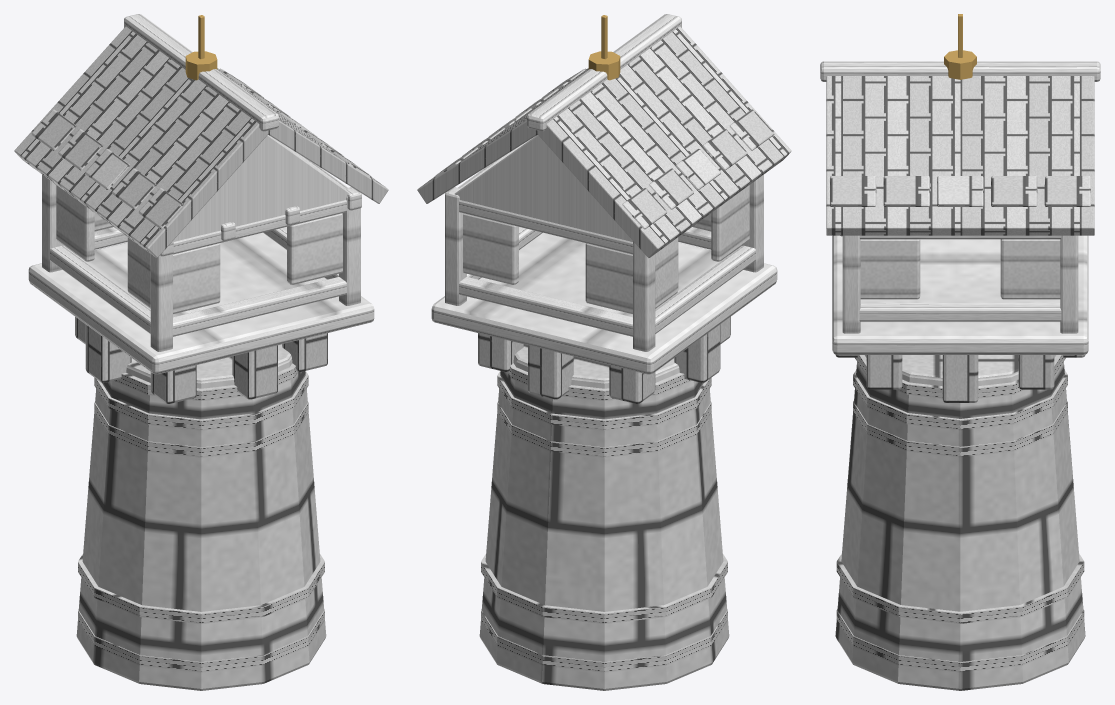
The model's file is watchtower.glb.
3 renders of one model, left to right at view 1: azimuth 30°, elevation 25°; view 2: azimuth 150°, elevation 25°; view 3: azimuth 270°, elevation 25°, orthographic.
Parts seen in each view (by area): view 1: Watchtower_Geometry; view 2: Watchtower_Geometry; view 3: Watchtower_Geometry.
Part boxes in pixels (x1=…): Watchtower_Geometry: x1=14, y1=14, x2=388, y2=690; Watchtower_Geometry: x1=417, y1=14, x2=791, y2=690; Watchtower_Geometry: x1=820, y1=14, x2=1100, y2=690.
Size of the model in its own units: 1.87 by 4.62 by 1.88.
10 materials, 8 textured.
